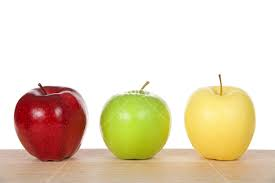apple: (15, 89, 92, 164), (188, 87, 257, 161), (102, 89, 172, 159)
